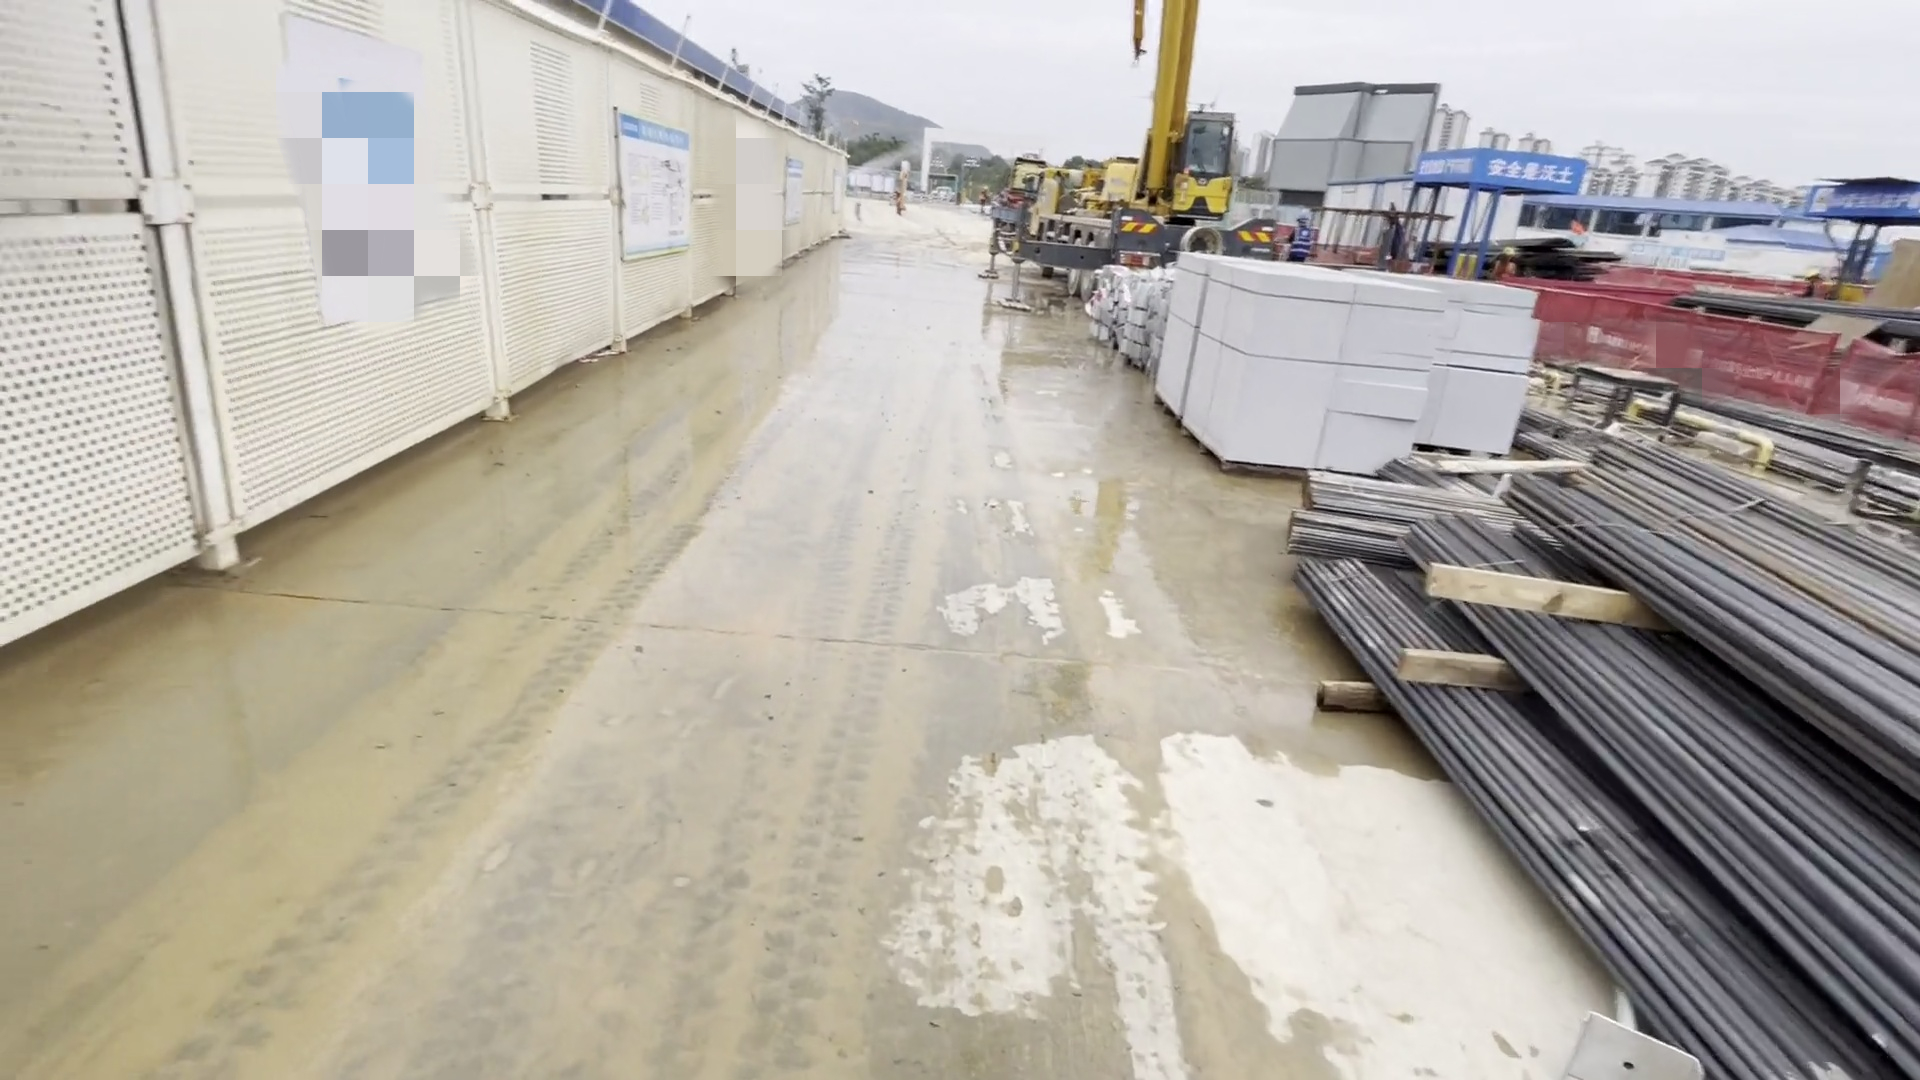brick: (1174, 244, 1534, 498)
fence: (1547, 270, 1920, 448)
rebar: (1315, 433, 1920, 1055)
slogan: (1412, 142, 1588, 194)
